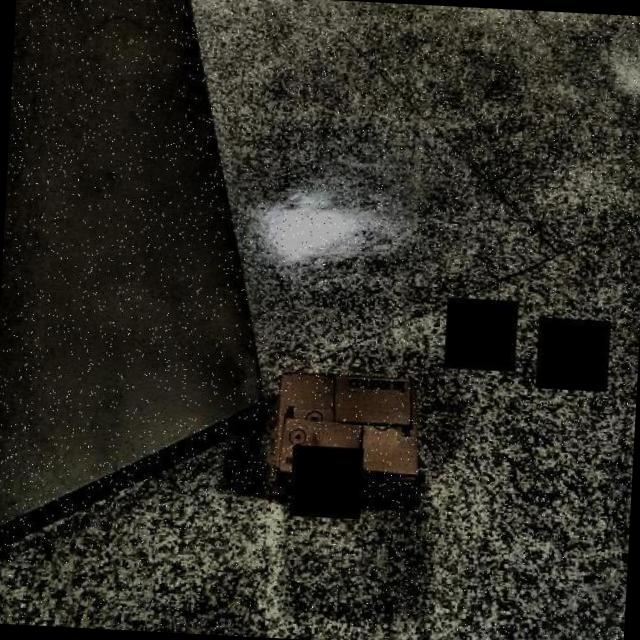box: (258, 342, 463, 541)
